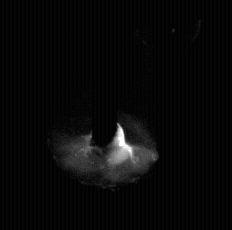arame: (94, 0, 119, 147)
poca: (47, 0, 155, 230)
